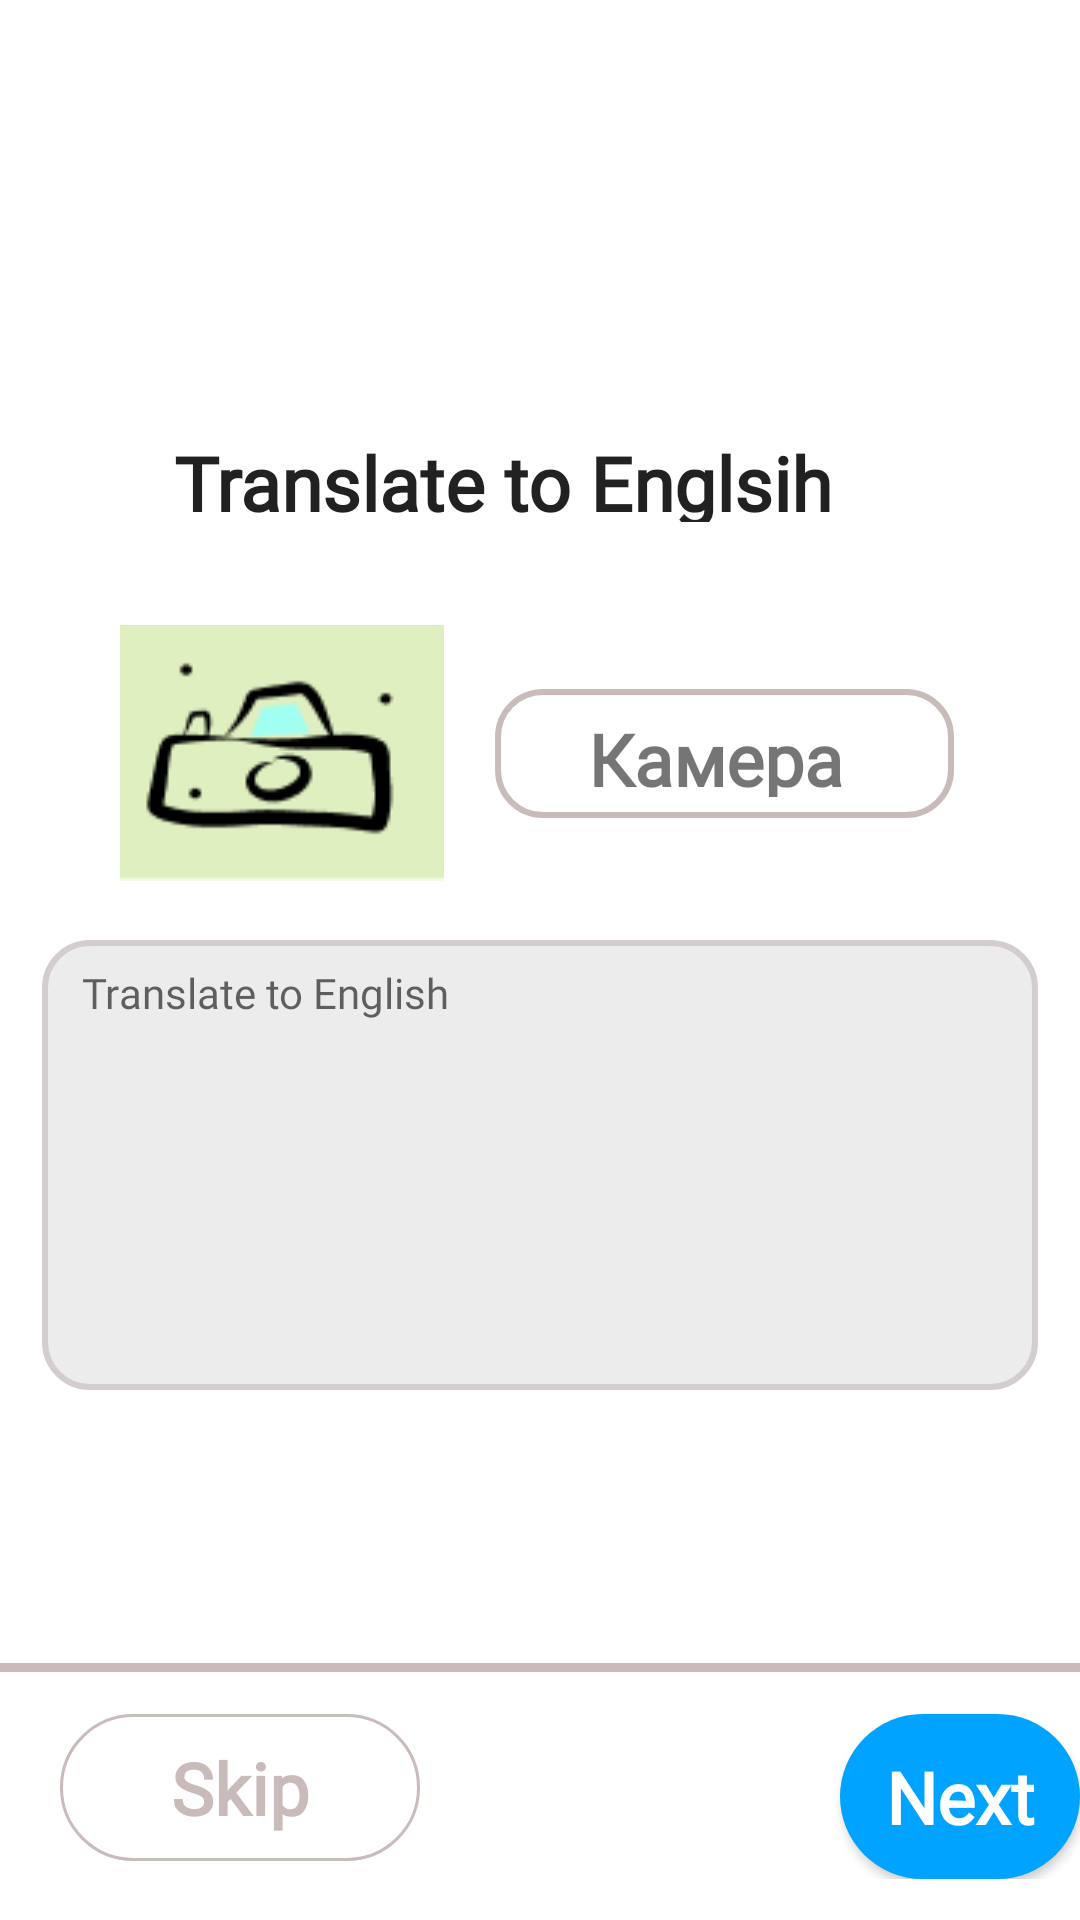

Icons on this 1080w x 1920h Android screen, each with the point to tap as (x,y):
camera: (282,752)
